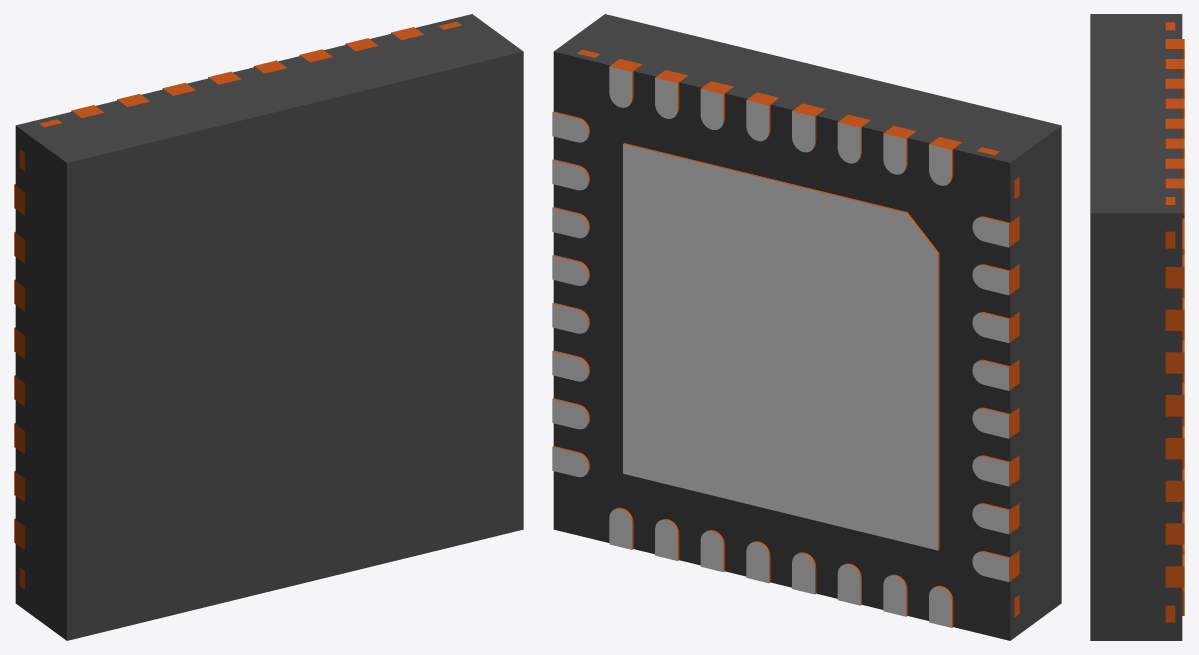
Rendered from TLV320AIC3101IRHBR.glb.
3 views of the same model, side by side, from view 1: azimuth 30°, elevation 25°; view 2: azimuth 150°, elevation 25°; view 3: azimuth 270°, elevation 25° (orthographic). The views are drawn at different scales.
Parts seen in each view (by area): view 1: BODY-QFN; view 2: SOLID (×33), BODY-QFN; view 3: BODY-QFN, SOLID (×19).
Part boxes in pixels (x1=…): BODY-QFN: x1=15, y1=14, x2=523, y2=640; SOLID (×33): x1=552, y1=59, x2=1019, y2=627; BODY-QFN: x1=553, y1=14, x2=1061, y2=640; BODY-QFN: x1=1090, y1=14, x2=1182, y2=640; SOLID (×19): x1=1165, y1=39, x2=1184, y2=622.
Bounding box in the file's own units: 0.005 × 0.005 × 0.001.
